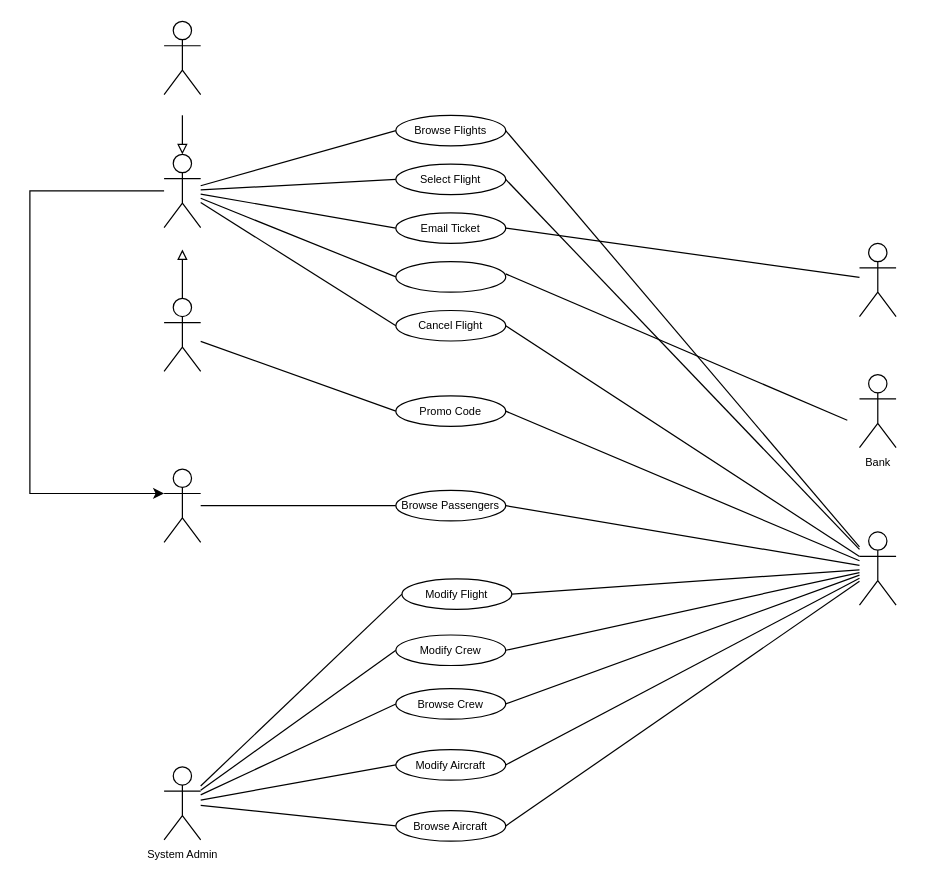
The diagram is 931 pixels wide and 883 high, and some of its shapes have lost their labels. Here are the shapes that lost their labels. From the top down, the centre of each, then its label:
the point at 182,57: Tourism Agent
the point at 182,190: User
the point at 450,276: Make Payment
the point at 877,279: Email Server
the point at 182,334: Registered User
the point at 182,505: Airline Agent
the point at 877,568: Database
